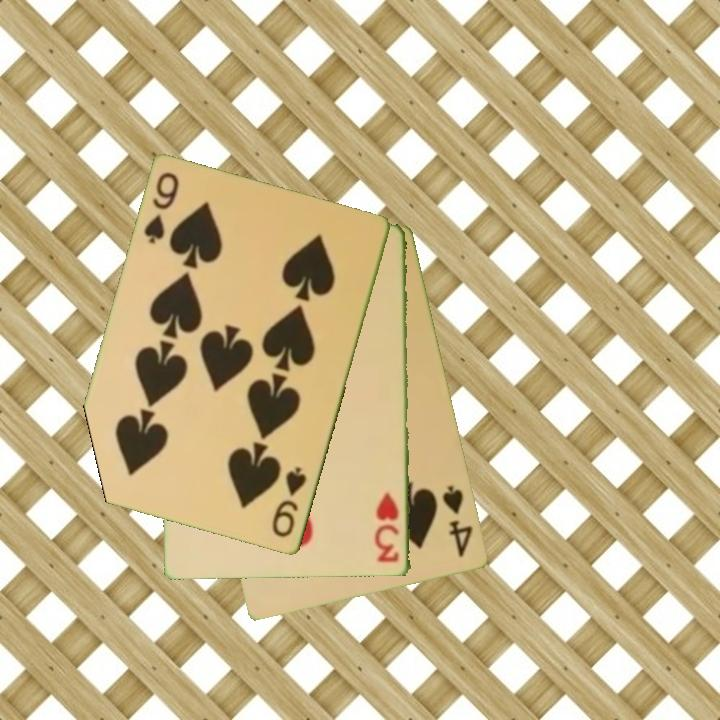3h: (373, 489, 403, 566)
4s: (439, 482, 476, 561)
9s: (140, 169, 183, 247), (268, 463, 310, 541)
